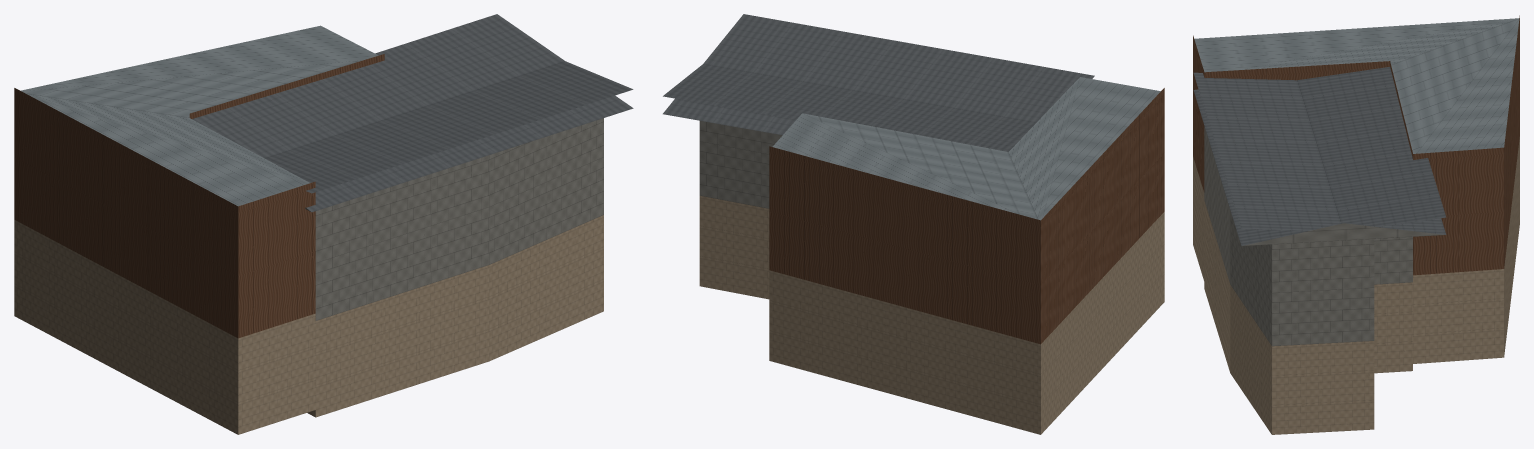
File: bld_c21_45_399.gltf
3 renders of one model, left to right at view 1: azimuth 30°, elevation 25°; view 2: azimuth 150°, elevation 25°; view 3: azimuth 270°, elevation 25°, orthographic. The views are drawn at different scales.
Parts seen in each view (by area): view 1: bld_c21_45_399; view 2: bld_c21_45_399; view 3: bld_c21_45_399.
Part boxes in pixels (box(x1,y1,x2,y2)): bld_c21_45_399: box(14, 14, 633, 434); bld_c21_45_399: box(663, 14, 1164, 434); bld_c21_45_399: box(1193, 15, 1519, 434).
Size of the model in its own units: 25.89 by 12.48 by 17.04.
7 materials, 7 textured.
